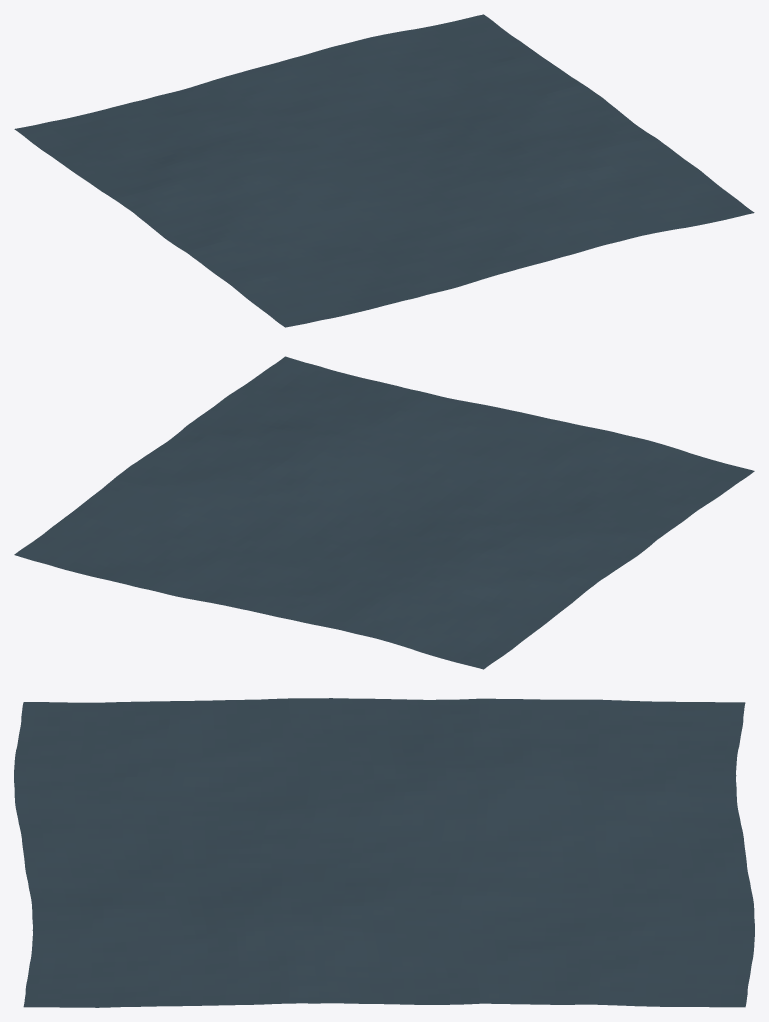
File: ocean.gltf
The picture shows the model from 3 angles, top to bottom: view 1: azimuth 30°, elevation 25°; view 2: azimuth 150°, elevation 25°; view 3: azimuth 270°, elevation 25°; orthographic projection. The views are drawn at different scales.
Visible parts, largest first — view 1: ocean; view 2: ocean; view 3: ocean.
Boxes of the visible parts, x1,y1,x2,y2 form: ocean: (14,14,754,327); ocean: (14,356,754,669); ocean: (14,698,754,1007).
Bounding box in the file's own units: 654 × 8.67 × 667.
